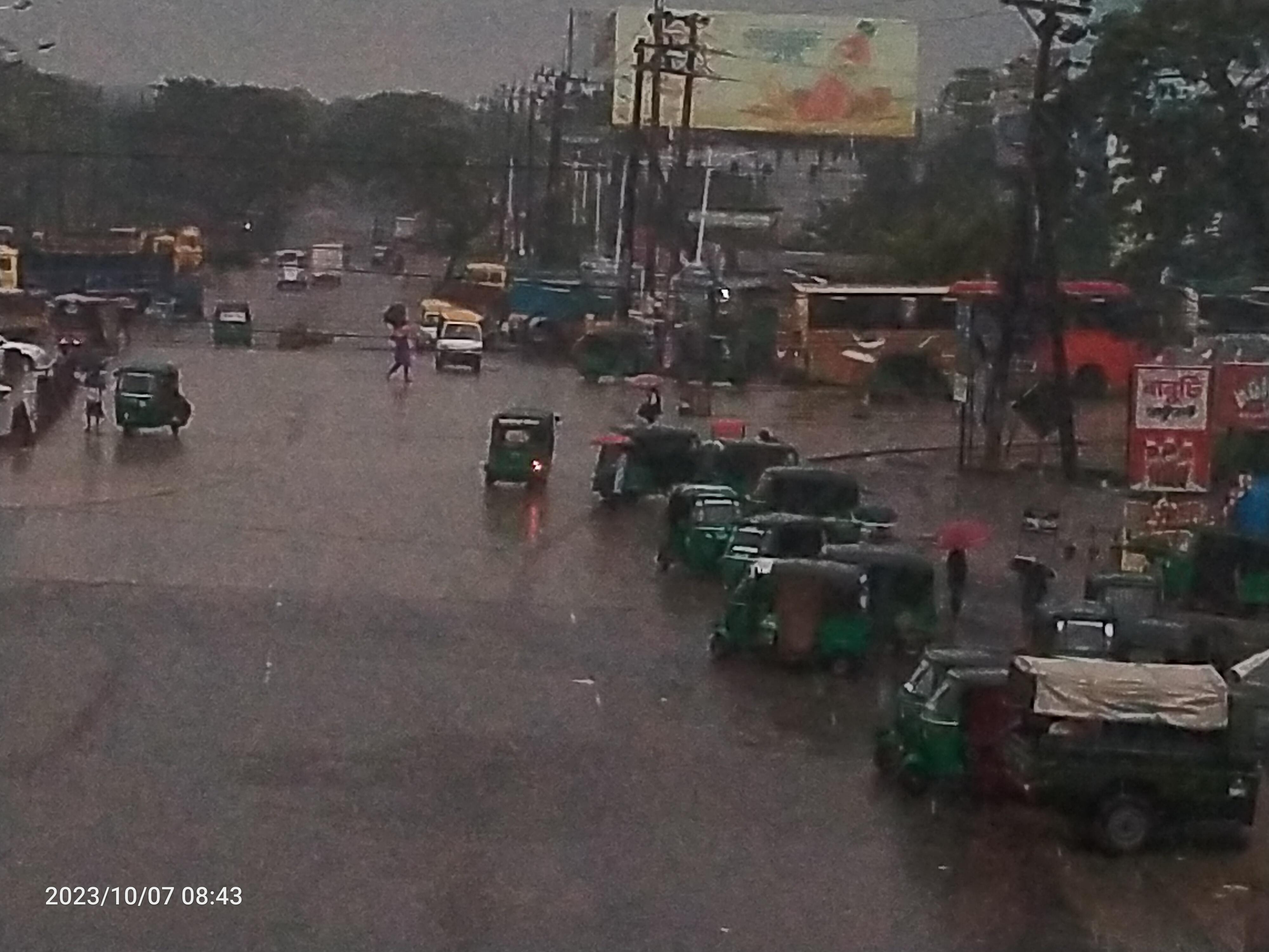Bus: (937, 260, 1169, 430), (766, 260, 1009, 412)
Car: (424, 308, 491, 387)
Truck: (993, 634, 1269, 863), (0, 232, 171, 319)
